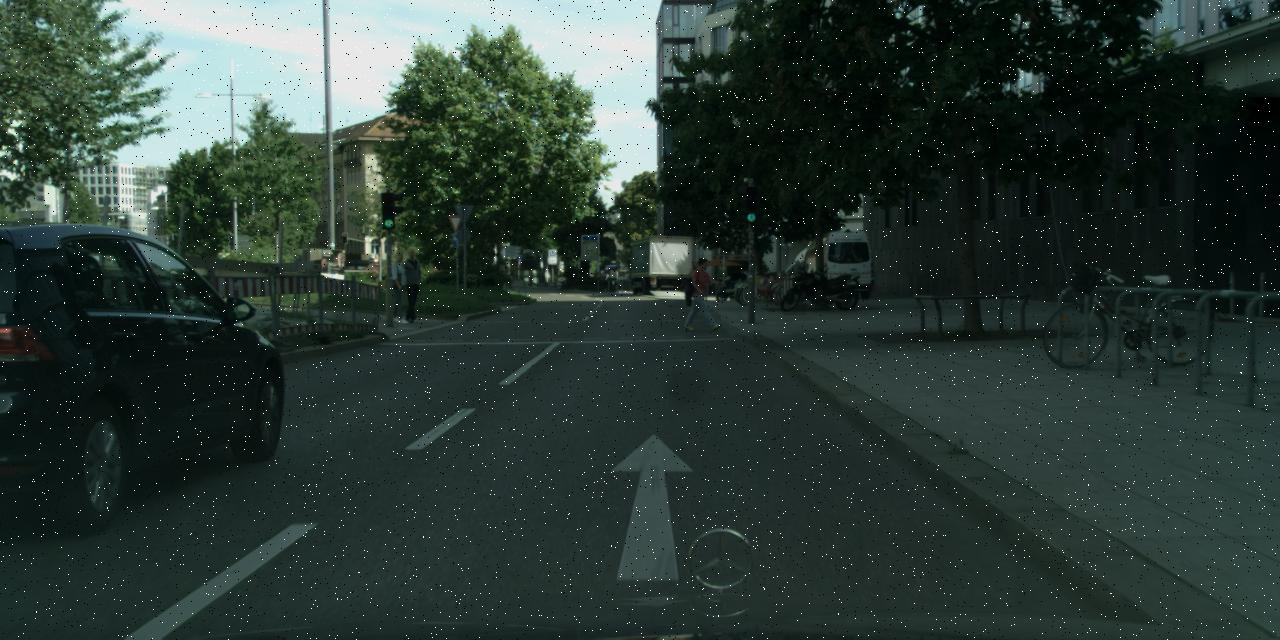ped: (396, 248, 425, 321), (688, 257, 717, 329), (385, 252, 413, 322)
